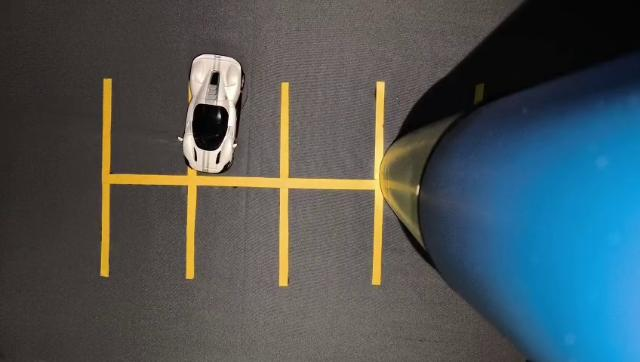toy_car: (169, 39, 263, 191)
